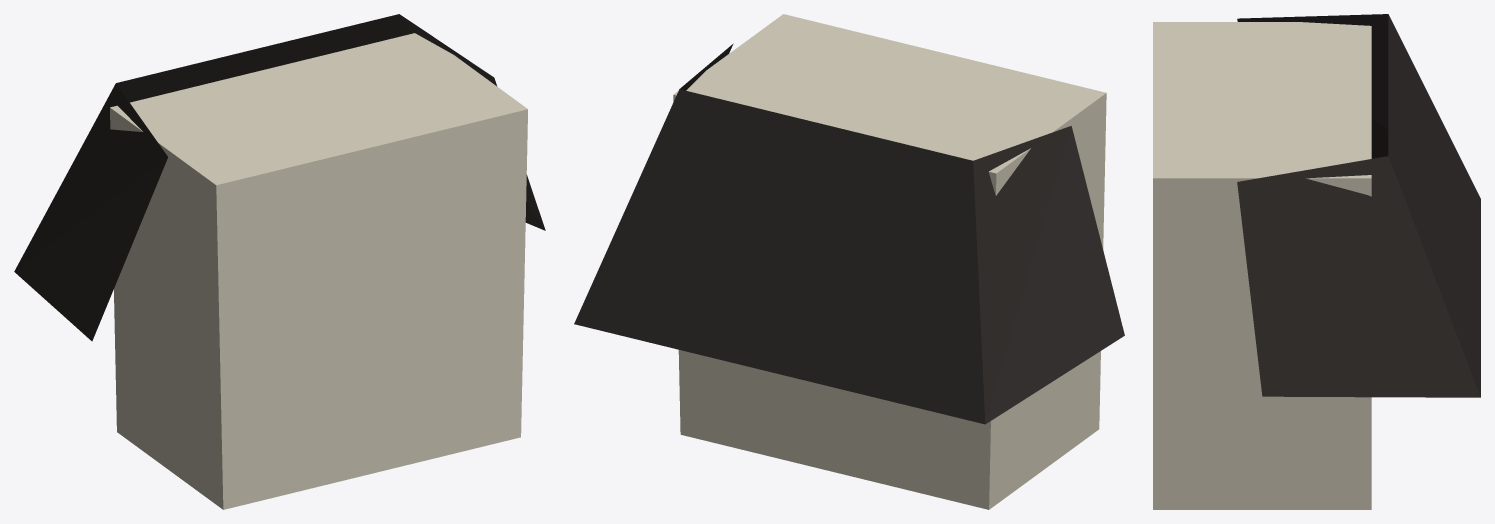
Rendered from pc_chest.obj.
3 renders of one model, left to right at view 1: azimuth 30°, elevation 25°; view 2: azimuth 150°, elevation 25°; view 3: azimuth 270°, elevation 25°, orthographic. The views are drawn at different scales.
Visible parts, largest first — view 1: pc_chest; view 2: pc_chest; view 3: pc_chest.
Part boxes in pixels (x1,y1,x2,y2): pc_chest: [14, 14, 545, 509]; pc_chest: [574, 14, 1124, 509]; pc_chest: [1153, 14, 1480, 509].
Bounding box in the file's own units: 0.64 × 0.46 × 0.39.
